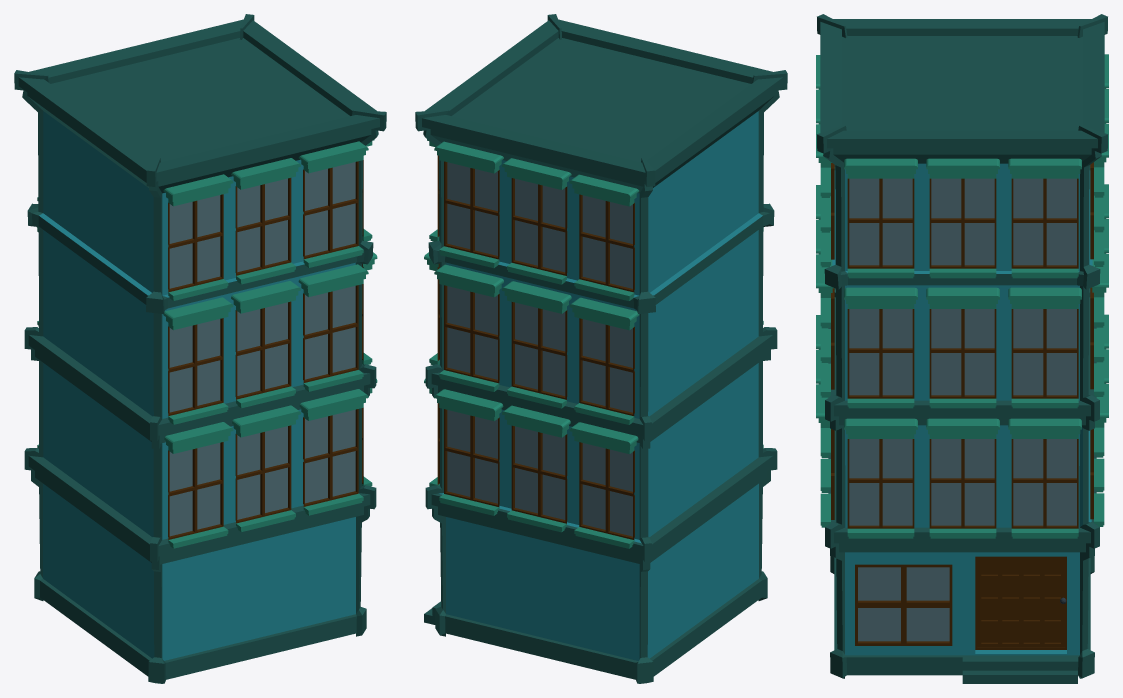
File: 4-Aqua.fbx
3 views of the same model, side by side, from view 1: azimuth 30°, elevation 25°; view 2: azimuth 150°, elevation 25°; view 3: azimuth 270°, elevation 25° (orthographic). The views are drawn at different scales.
Visible parts, largest first — view 1: Cube.008; view 2: Cube.008; view 3: Cube.008.
Boxes of the visible parts, <box> form: Cube.008: <box>14,14,386,683</box>; Cube.008: <box>415,14,787,683</box>; Cube.008: <box>816,14,1108,683</box>.
Bounding box in the file's own units: 1427 × 1435 × 2966.
